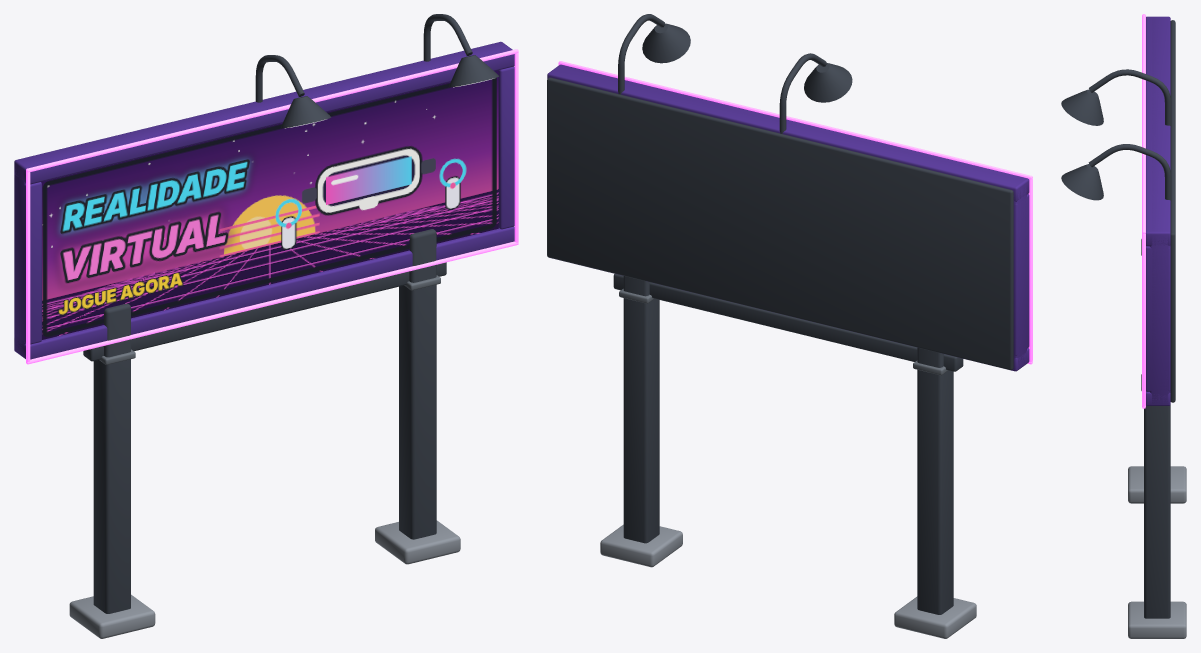
Rendered from outdoor_luminarias_vr.glb.
3 renders of one model, left to right at view 1: azimuth 30°, elevation 25°; view 2: azimuth 150°, elevation 25°; view 3: azimuth 270°, elevation 25°, orthographic. The views are drawn at different scales.
Parts seen in each view (by area): view 1: outdoor_luminarias_vr; view 2: outdoor_luminarias_vr; view 3: outdoor_luminarias_vr.
Part boxes in pixels (left/top/right/bottom): outdoor_luminarias_vr: left=14, top=14, right=518, bottom=638; outdoor_luminarias_vr: left=547, top=14, right=1032, bottom=638; outdoor_luminarias_vr: left=1061, top=14, right=1186, bottom=638.
Size of the model in its own units: 9.67 by 10.13 by 2.35.
4 materials, 2 textured.
